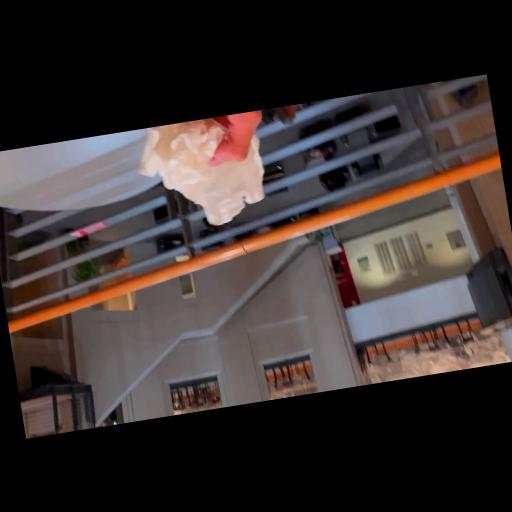napkin: (132, 111, 274, 238)
